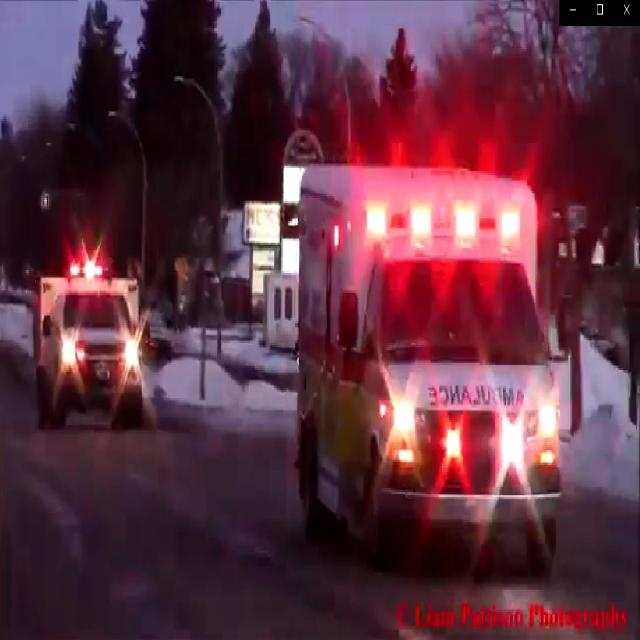emergency: (292, 154, 583, 592), (29, 250, 147, 444)
